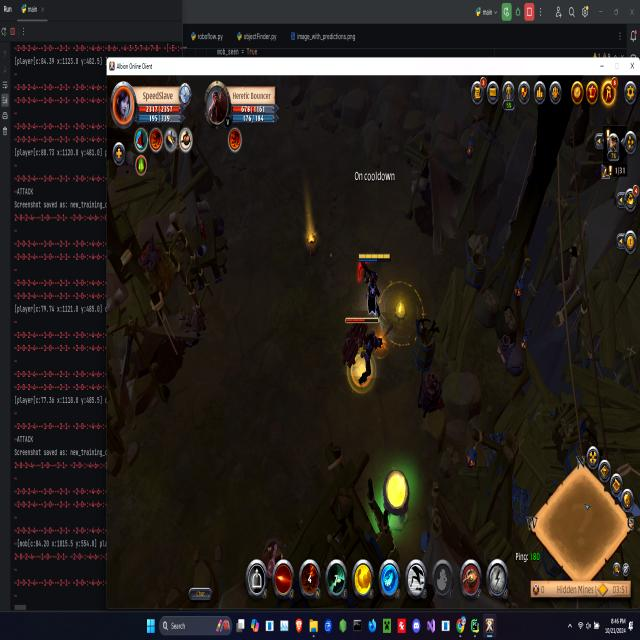fiber: (381, 461, 412, 529)
ore: (342, 308, 385, 394)
red: (355, 247, 392, 318)
